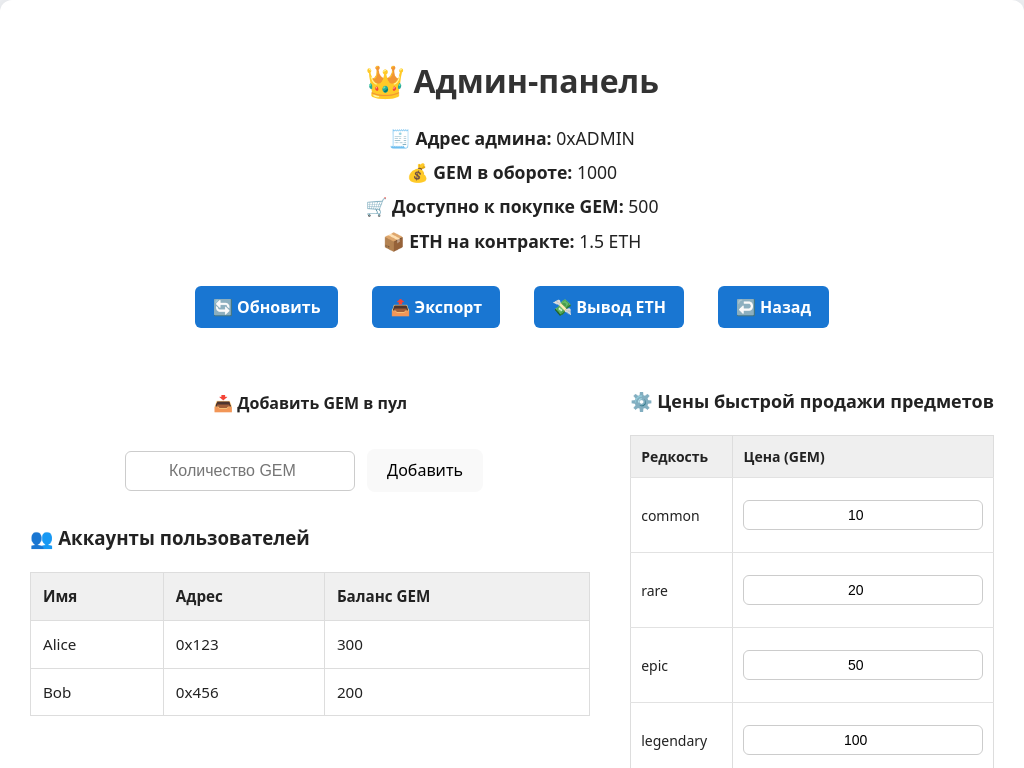
Test case: AdminPage › переключает сортировку по возрастанию/убыванию при повторном клике
Первый клик — сортировка по возрастанию
Click the column heading "Имя".
click(97, 596)  # box [30, 572, 163, 620]
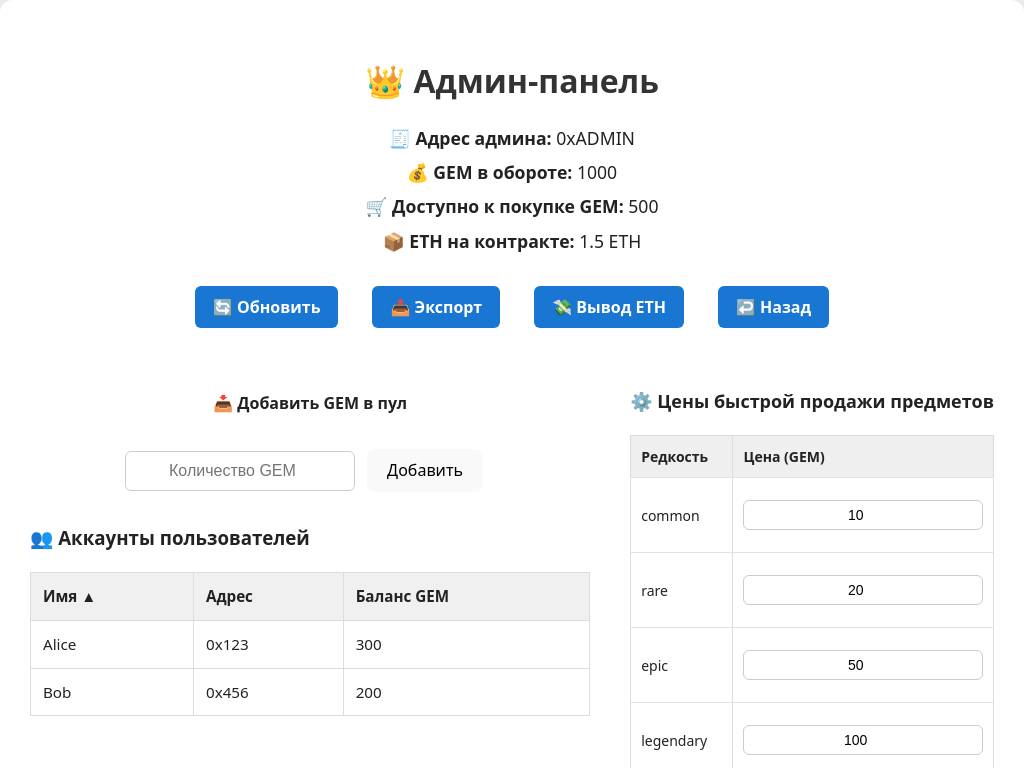
Click the column heading "Имя ▲".
click(112, 596)  # box [30, 572, 194, 620]
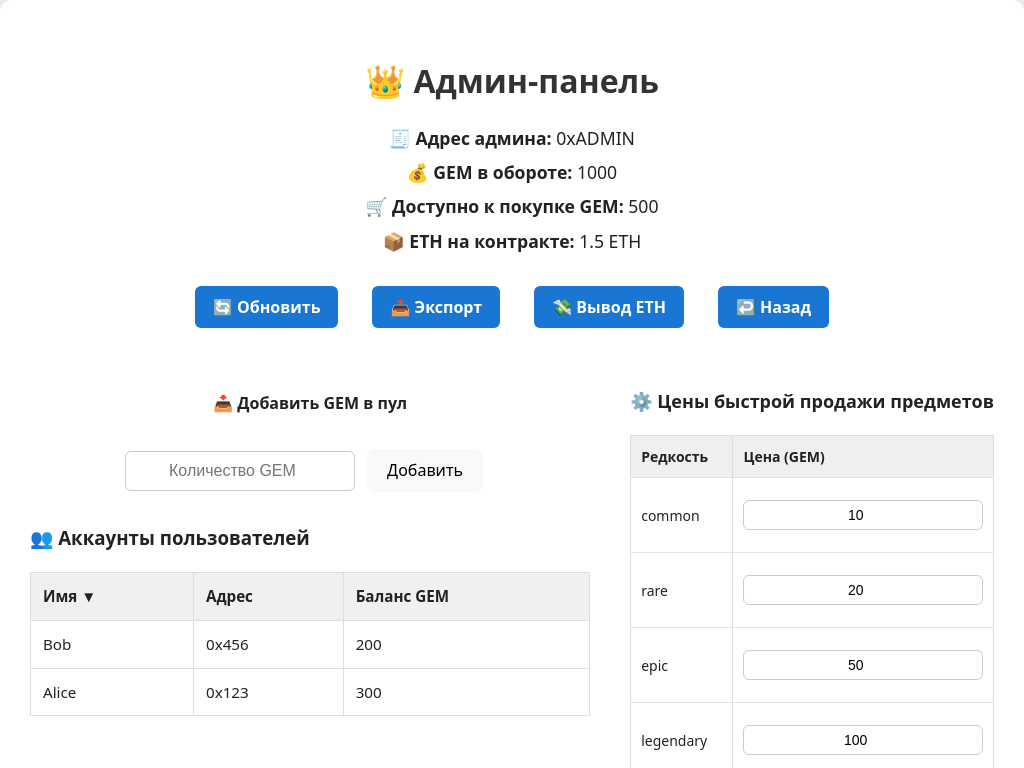
expect the row "Bob 0x456 200" is shown: met, box [30, 620, 590, 668]
expect the row "Alice 0x123 300" is shown: met, box [30, 668, 590, 716]
